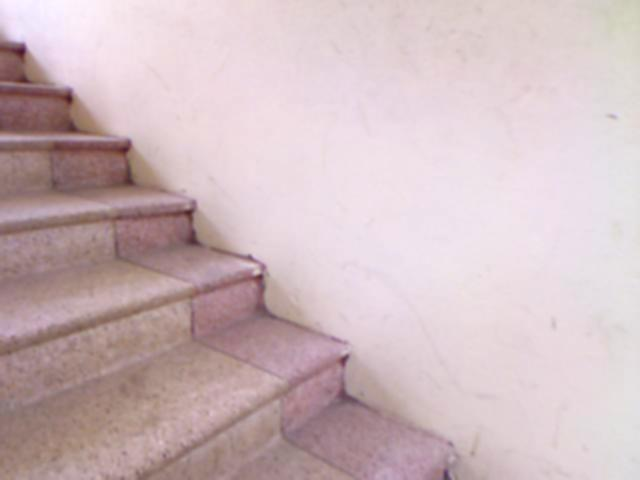Escaleras: (3, 43, 457, 471)
